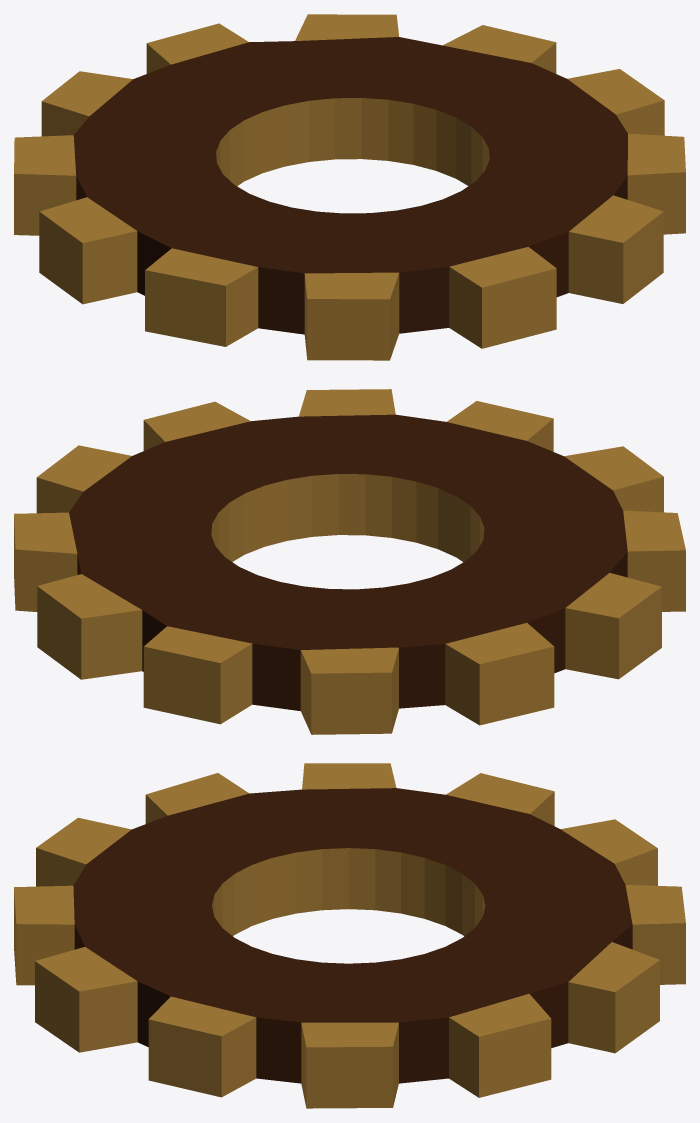
The model's file is loot.fbx.
The picture shows the model from 3 angles, top to bottom: view 1: azimuth 30°, elevation 25°; view 2: azimuth 150°, elevation 25°; view 3: azimuth 270°, elevation 25°; orthographic projection.
Visible parts, largest first — view 1: КриваяБезье; view 2: КриваяБезье; view 3: КриваяБезье.
Boxes of the visible parts, <box> form: КриваяБезье: <box>14,14,685,360</box>; КриваяБезье: <box>14,389,685,734</box>; КриваяБезье: <box>14,763,685,1108</box>.
Bounding box in the file's own units: 315 × 31.62 × 315.
